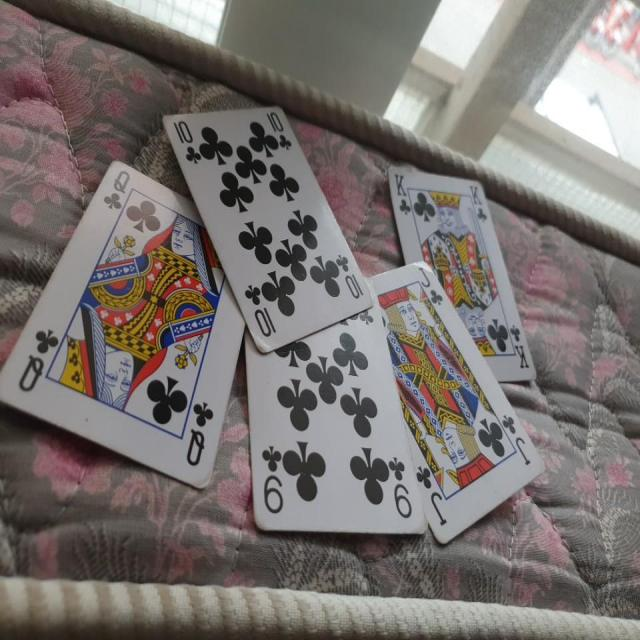10 Trefoils: (159, 101, 374, 354)
9 Trefoils: (244, 276, 429, 538)
J Trefoils: (366, 258, 545, 548)
K Trefoils: (388, 162, 539, 386)
Q Trefoils: (1, 161, 246, 492)
